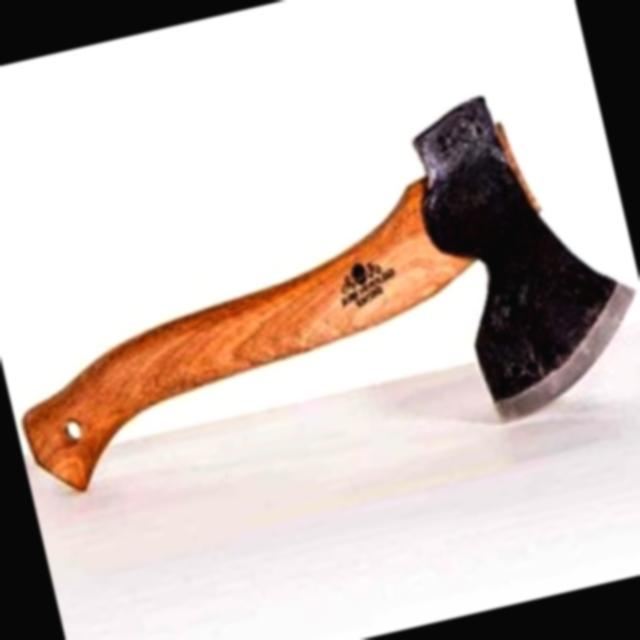ax: (0, 62, 640, 541)
